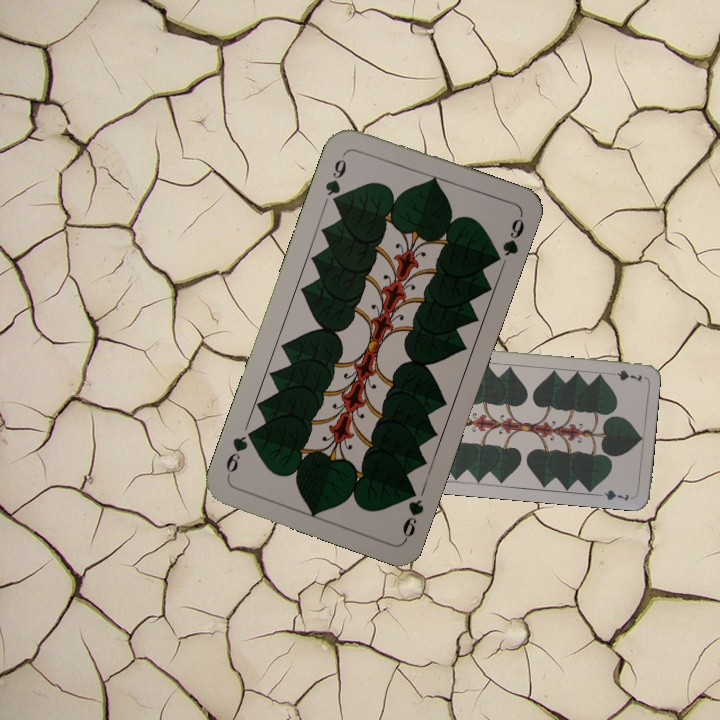G7: (604, 366, 645, 385)
G9: (398, 481, 427, 542), (321, 154, 349, 209)
